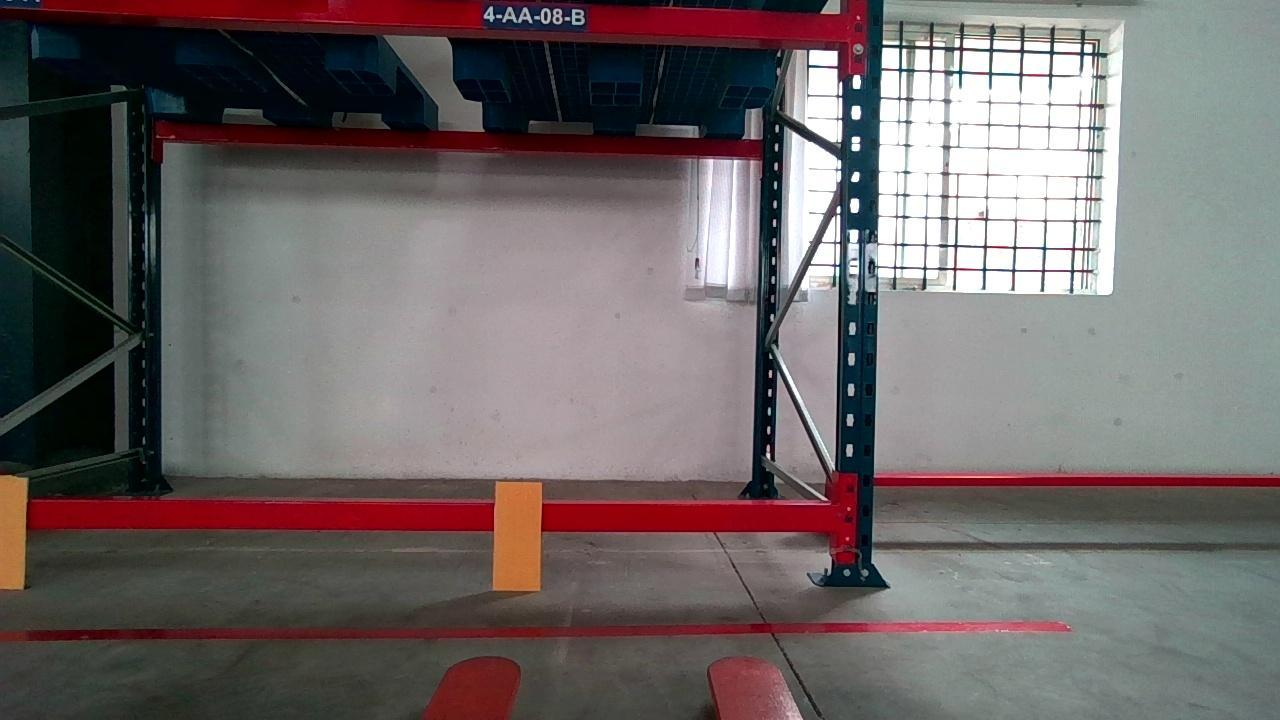h_rack: (1, 0, 849, 42), (25, 498, 840, 532)
orange_strip: (493, 479, 544, 591), (0, 477, 29, 589)
red_line: (1, 619, 1071, 641)
